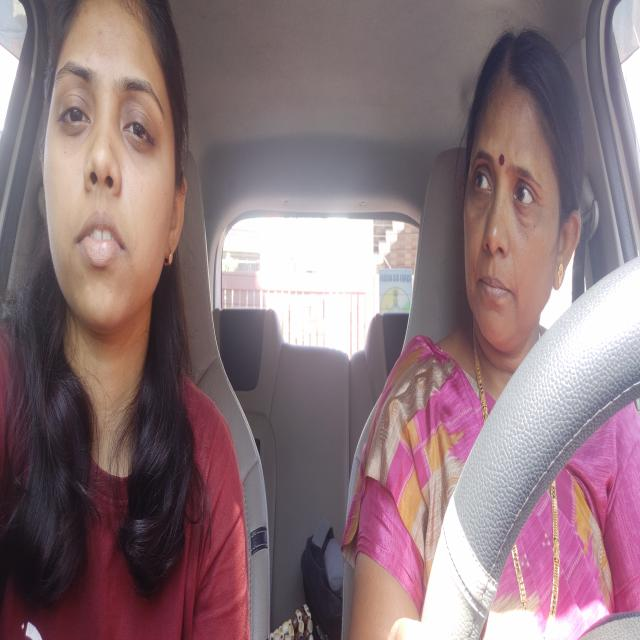person: (48, 9, 185, 304), (464, 35, 569, 316)
